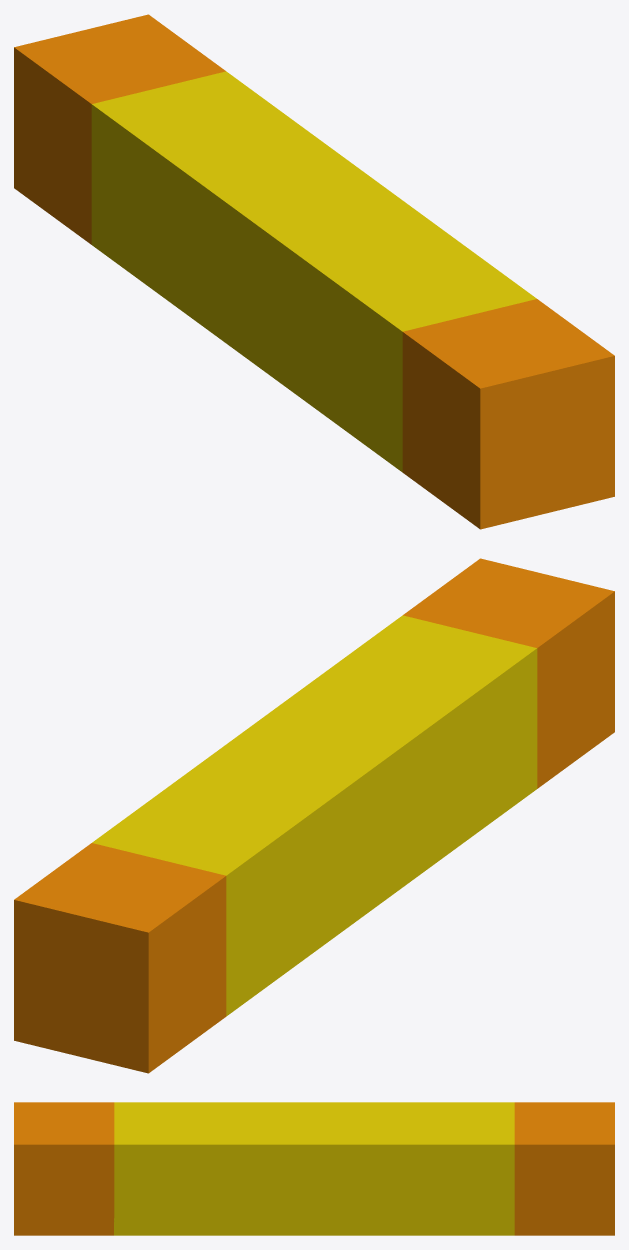
Rendered from AA_Proj_FireflyFlameMiddle.fbx.
3 renders of one model, top to bottom at view 1: azimuth 30°, elevation 25°; view 2: azimuth 150°, elevation 25°; view 3: azimuth 270°, elevation 25°, orthographic. The views are drawn at different scales.
Visible parts, largest first — view 1: Cube.112, Cube.116, Cube.115, Cube.113, Cube.114, Cube.117; view 2: Cube.117, Cube.113, Cube.114, Cube.116, Cube.115, Cube.112; view 3: Cube.117, Cube.116, Cube.115, Cube.114, Cube.113, Cube.112.
Boxes of the visible parts, x1,y1,x2,y2 form: Cube.112: (402, 299, 614, 529); Cube.116: (91, 71, 303, 301); Cube.115: (169, 128, 381, 358); Cube.113: (325, 242, 536, 472); Cube.114: (247, 185, 458, 415); Cube.117: (14, 14, 225, 244); Cube.117: (14, 843, 226, 1073); Cube.113: (325, 615, 537, 845); Cube.114: (247, 672, 459, 902); Cube.116: (92, 786, 303, 1016); Cube.115: (170, 729, 381, 959); Cube.112: (403, 558, 614, 788); Cube.117: (514, 1102, 614, 1235); Cube.116: (414, 1102, 514, 1235); Cube.115: (314, 1102, 414, 1235); Cube.114: (214, 1102, 314, 1235); Cube.113: (114, 1102, 214, 1235); Cube.112: (14, 1102, 114, 1235).
Bounding box in the file's own units: 200 × 200 × 1200.
